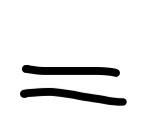eqv: (16, 60, 130, 107)
